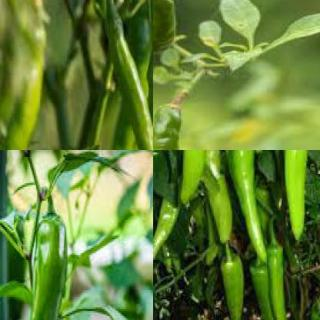green_chilli: (96, 0, 152, 149), (225, 150, 272, 260), (30, 216, 70, 319), (200, 150, 234, 244), (284, 150, 311, 241), (130, 58, 152, 149), (266, 243, 290, 319), (218, 252, 244, 319), (153, 201, 181, 257), (178, 150, 208, 201), (153, 110, 190, 149), (249, 260, 273, 319), (153, 0, 178, 54)
